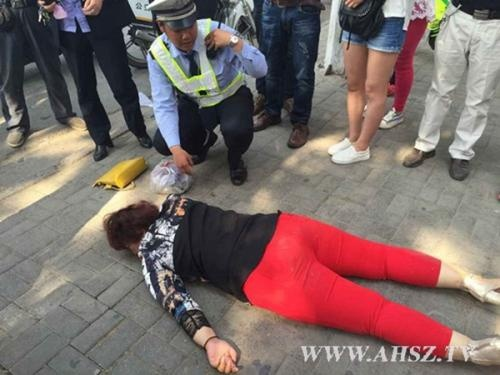falling: (95, 181, 500, 375)
